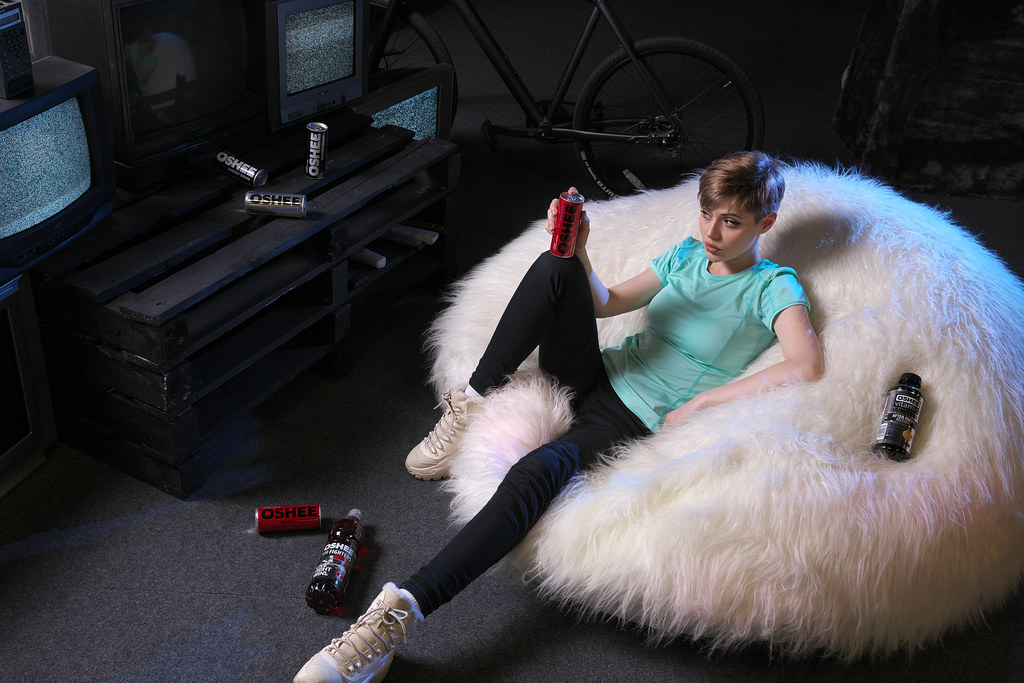bottle: (860, 327, 935, 476)
person: (304, 79, 825, 683)
